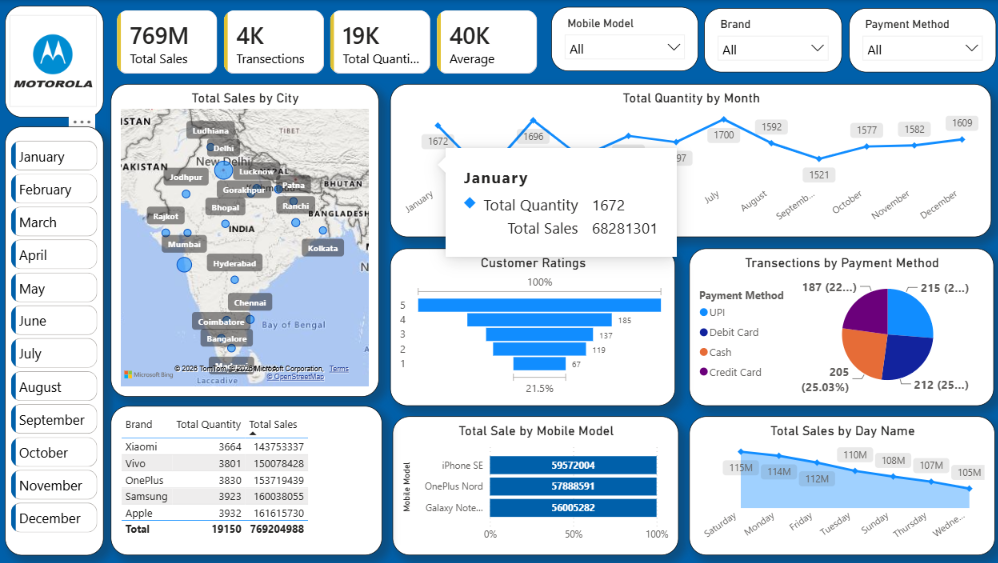

This screenshot's page, from the dashboard's own definition file:
{"tool":"powerbi","page":{"name":"Page 1","canvas":[1280,720],"ordinal":0},"visuals":[{"type":"shape","box":[7.3,7.3,126.2,142.4],"z":0},{"type":"image","box":[13.2,19.1,111.5,117.4],"z":1000},{"type":"shape","box":[7.3,161.4,126.2,547.5],"z":2000},{"type":"advancedSlicerVisual","fields":{"Values":["Sales_Data.Date.Variation.Date Hierarchy.Month"]},"box":[10.3,174.7,120,519.6],"z":3000},{"type":"cardVisual","fields":{"Data":["Sales_Data.Total Sales","Sales_Data.Total Rows","Sales_Data.Total Quantity","Sales_Data.Average"]},"box":[133.6,0,570.9,107.1],"z":4000},{"type":"map","fields":{"Category":["Sales_Data.City"],"Size":["Sales_Data.Total Sales"]},"box":[142.4,107.1,342,399.2],"z":5000},{"type":"lineChart","title":"Total Quantity  by Month","fields":{"Y":["Sales_Data.Total Quantity"],"Category":["Sales_Data.Date.Variation.Date Hierarchy.Month","Sales_Data.Date.Variation.Date Hierarchy.Day"]},"box":[499,107.1,767.6,195.2],"z":6000},{"type":"pieChart","title":"Transections by Payment Method","fields":{"Category":["Sales_Data.Payment Method"],"Y":["Sales_Data.Transections"]},"box":[880.6,317,388.9,201.1],"z":7000},{"type":"funnel","title":"Customer Ratings","fields":{"Category":["Sales_Data.Customer Ratings"],"Y":["CountNonNull(Sales_Data.Customer Ratings)"]},"box":[499,317,364,201.1],"z":8000},{"type":"hundredPercentStackedBarChart","title":"Total Sale by Mobile Model","fields":{"Category":["Sales_Data.Mobile Model"],"Y":["Sales_Data.Total Sales"]},"box":[502,531.3,365.5,177.6],"z":9000},{"type":"areaChart","fields":{"Category":["Sales_Data.Day Name"],"Y":["Sales_Data.Total Sales"]},"box":[880.6,531.3,390.4,177.6],"z":10000},{"type":"tableEx","fields":{"Values":["Sales_Data.Brand","Sales_Data.Total Quantity","Sales_Data.Total Sales"]},"box":[142.4,518.1,346.4,190.8],"z":11000},{"type":"slicer","fields":{"Values":["Sales_Data.Mobile Model"]},"box":[704.5,8.8,187.9,82.2],"z":12000},{"type":"slicer","fields":{"Values":["Sales_Data.Brand"]},"box":[899.7,10.3,176.1,82.2],"z":13000},{"type":"slicer","fields":{"Values":["Sales_Data.Payment Method"]},"box":[1084.6,10.3,187.9,82.2],"z":14000}]}

Visuals, with their boxes in screenshot pixels (x1, y1, x2, y2), scaled from the page's 1280x720 canvas onto the 998x563 screenshot:
shape: region(6, 6, 104, 117)
image: region(10, 15, 97, 107)
shape: region(6, 126, 104, 554)
advancedSlicerVisual - Sales_Data.Date.Variation.Date Hierarchy.Month: region(8, 137, 102, 543)
cardVisual - Sales_Data.Total Sales x Sales_Data.Total Rows: region(104, 0, 549, 84)
map - Sales_Data.City x Sales_Data.Total Sales: region(111, 84, 378, 396)
"Total Quantity  by Month" lineChart: region(389, 84, 988, 236)
"Transections by Payment Method" pieChart: region(687, 248, 990, 405)
"Customer Ratings" funnel: region(389, 248, 673, 405)
"Total Sale by Mobile Model" hundredPercentStackedBarChart: region(391, 415, 676, 554)
areaChart - Sales_Data.Day Name x Sales_Data.Total Sales: region(687, 415, 991, 554)
tableEx - Sales_Data.Brand x Sales_Data.Total Quantity: region(111, 405, 381, 554)
slicer - Sales_Data.Mobile Model: region(549, 7, 696, 71)
slicer - Sales_Data.Brand: region(701, 8, 839, 72)
slicer - Sales_Data.Payment Method: region(846, 8, 992, 72)
